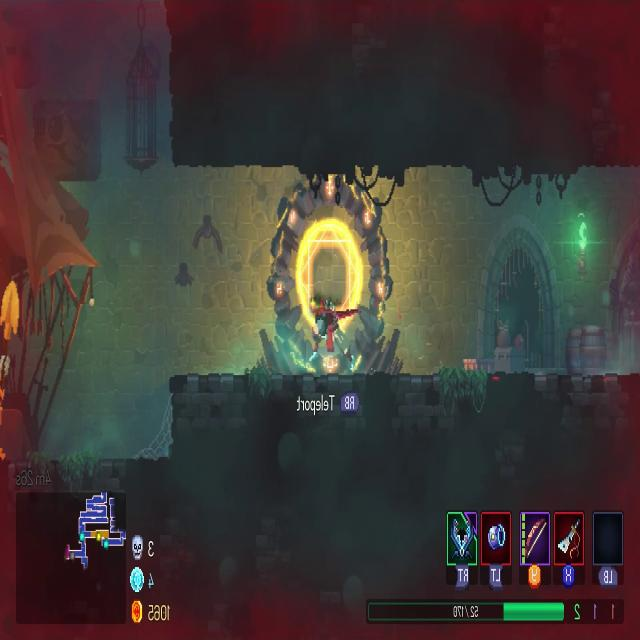agents: (310, 295, 352, 374)
